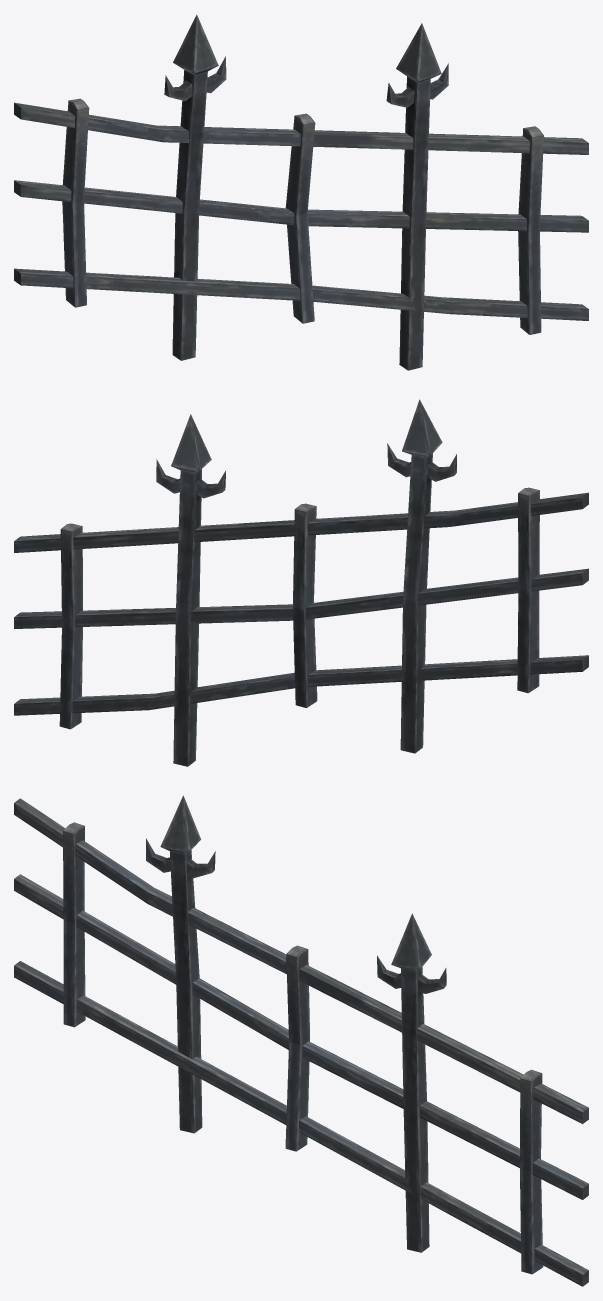
File: FenceDiagonal_001.obj
3 renders of one model, top to bottom at view 1: azimuth 30°, elevation 25°; view 2: azimuth 150°, elevation 25°; view 3: azimuth 330°, elevation 25°, orthographic. The views are drawn at different scales.
Visible parts, largest first — view 1: FenceDiagonal_001; view 2: FenceDiagonal_001; view 3: FenceDiagonal_001.
Part boxes in pixels (x1,y1,x2,y2): FenceDiagonal_001: [14, 14, 588, 370]; FenceDiagonal_001: [14, 399, 588, 766]; FenceDiagonal_001: [14, 795, 588, 1286].
Size of the model in its own units: 10 by 6.93 by 0.8258.
